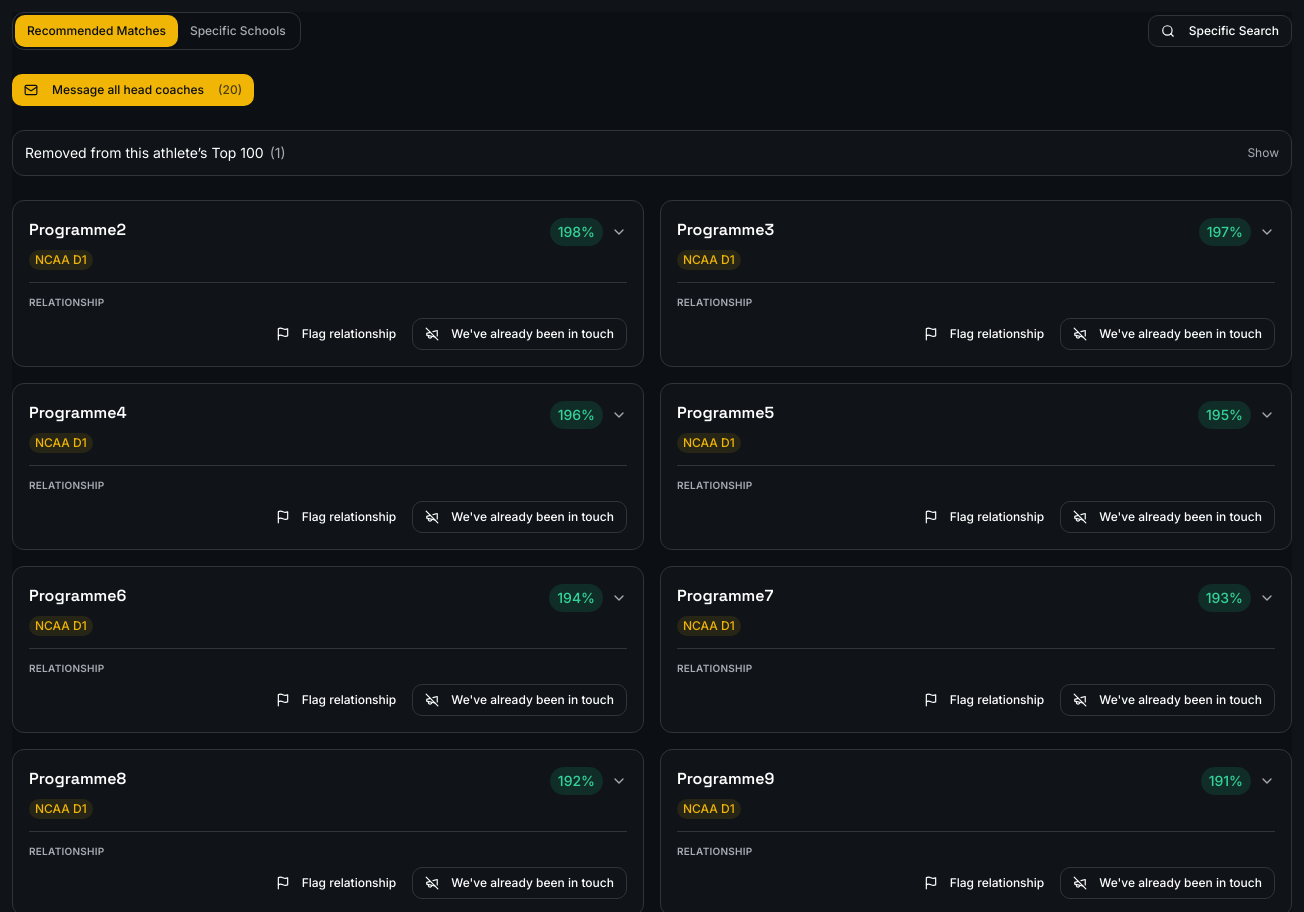
Test: the relationship surfaces show it too › appears in the removed-programmes panel
Click the button "Removed from this athlete’s Top 100(1) Show" at (144, 152), box [25, 143, 1279, 163]
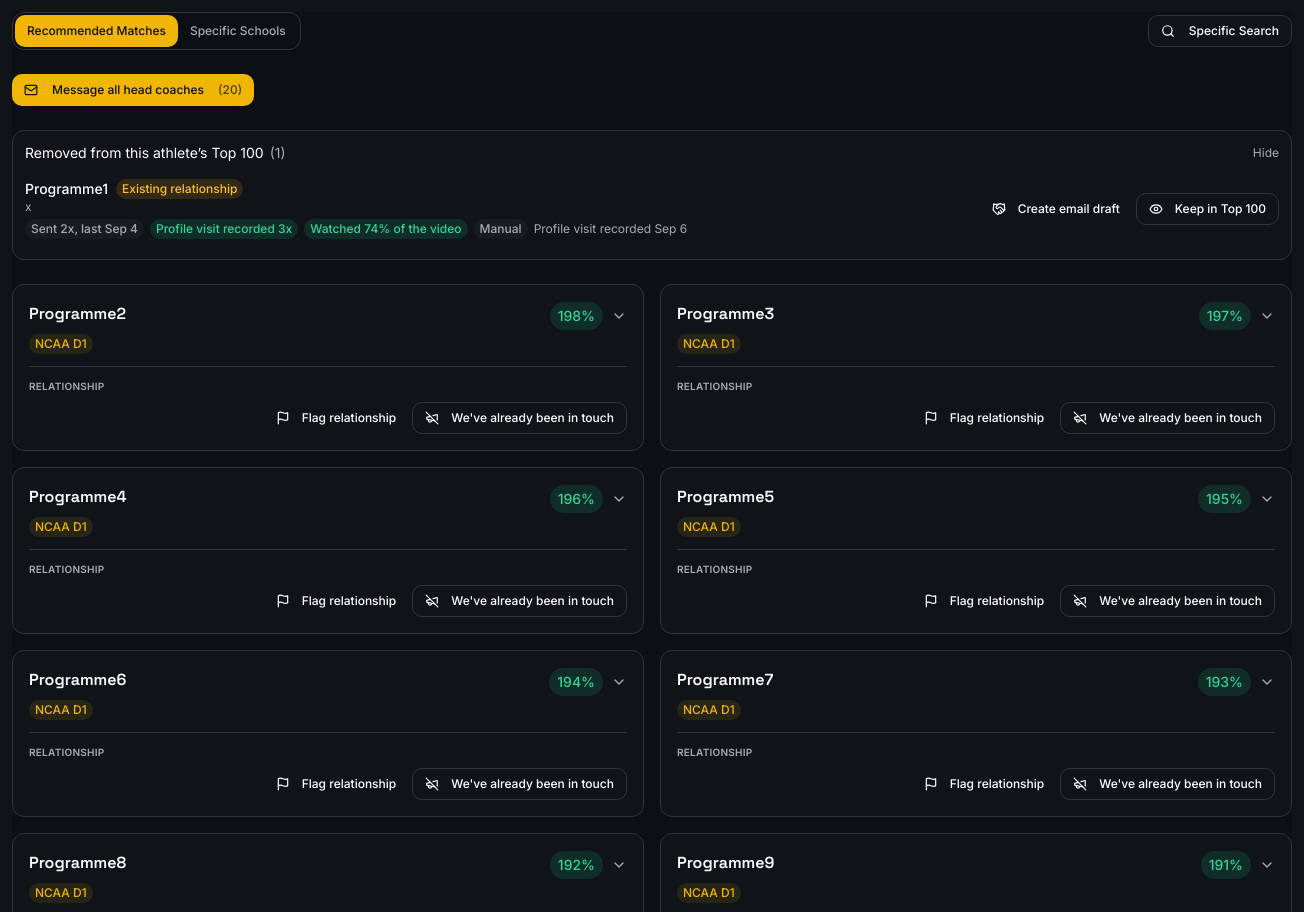
Now the element with test id "contact-summary" is shown, box [25, 219, 687, 239]
